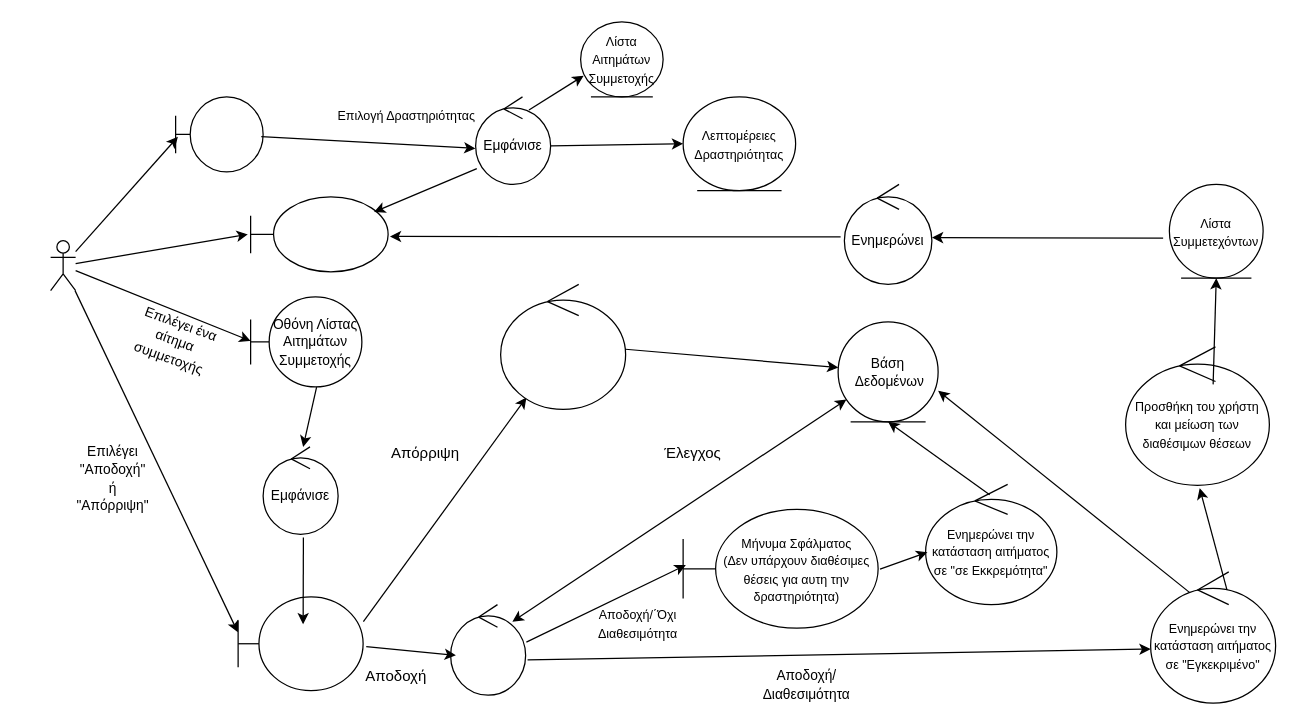
The diagram is 1298 pixels wide and 725 high, and some of its shapes have lost their labels. Here are the shapes that lost their labels. From the top down, the centre of each, then its label:
the point at 218,134: Oθόνη Κεντρικό Μενού
the point at 318,234: Οθόνη Δραστηριότητας
the point at 62,265: Διοργανωτής (Χρήστης)
the point at 562,346: Ενημερώνει την κατάσταση αιτήματος σε "Απορρίφθηκε"
the point at 300,643: Οθόνη Επιλογών (Αποδοχή / Απόρριψη)
the point at 487,649: Έλεγχος Διαθεσι-μότητας
